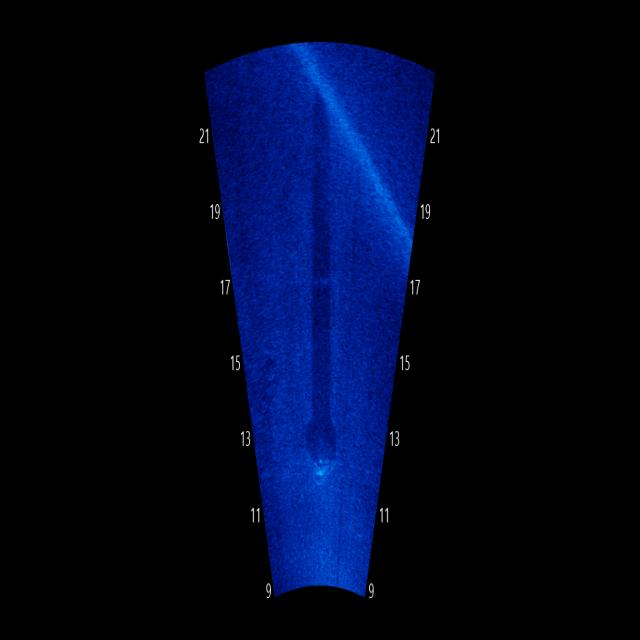circle: (258, 351, 285, 397)
square: (303, 422, 342, 488)
